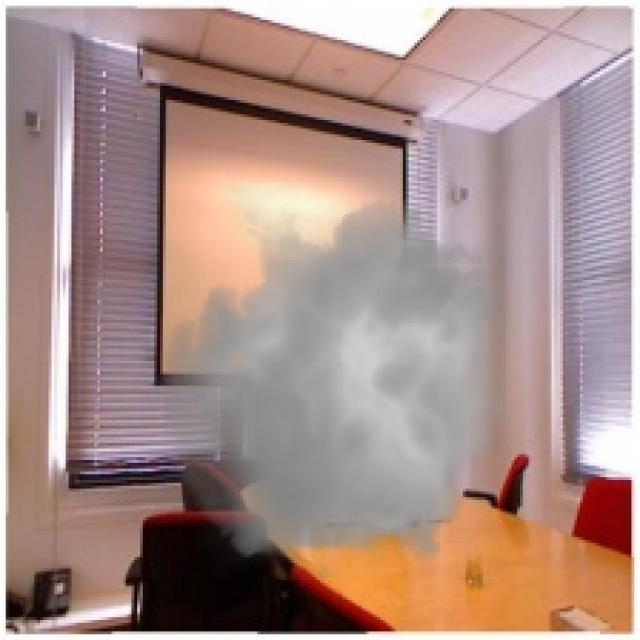Smoke: (148, 185, 523, 578)
